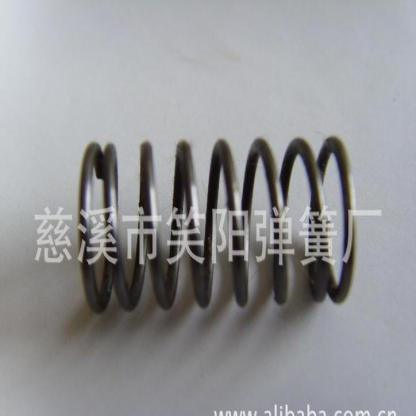FOD: (71, 129, 360, 321)
